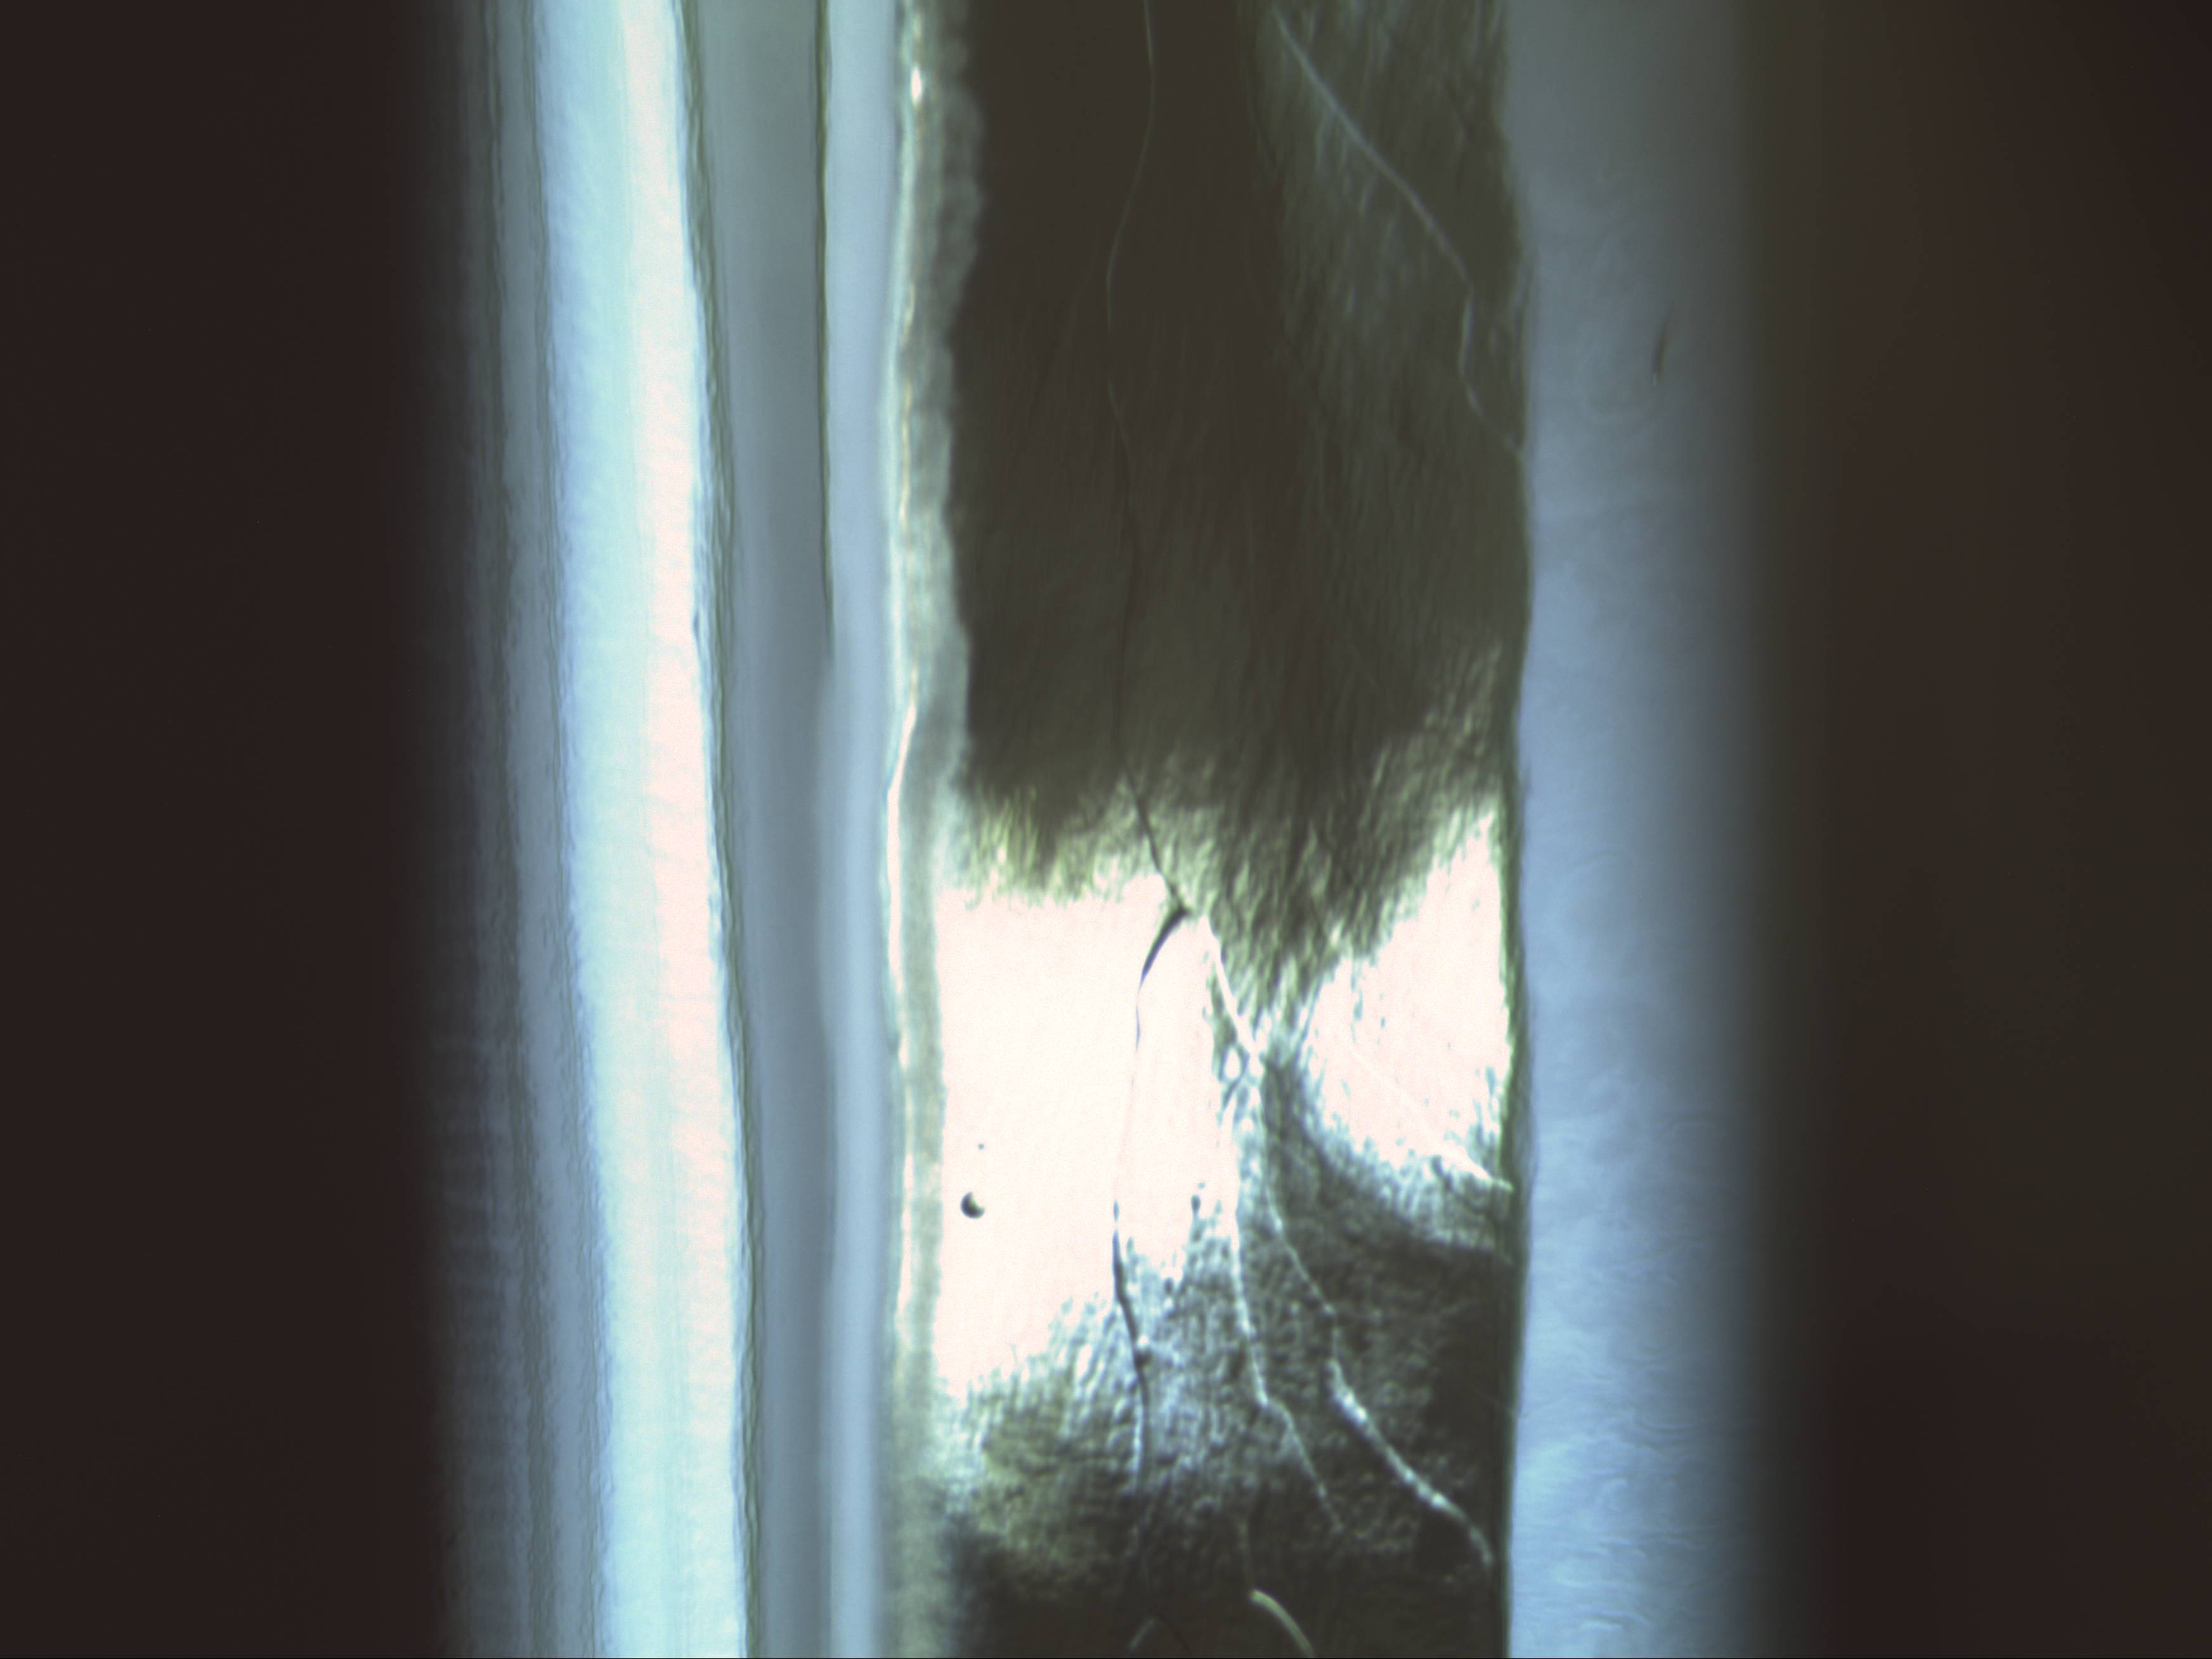defect: (956, 1183, 995, 1220)
